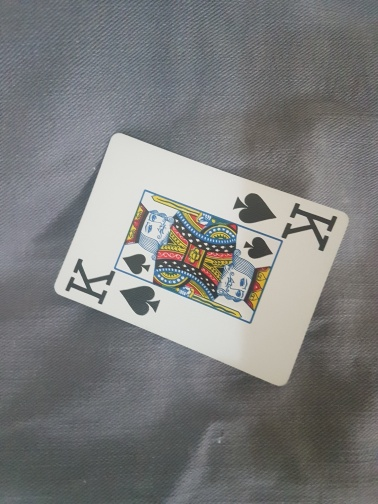king: (53, 133, 350, 386)
